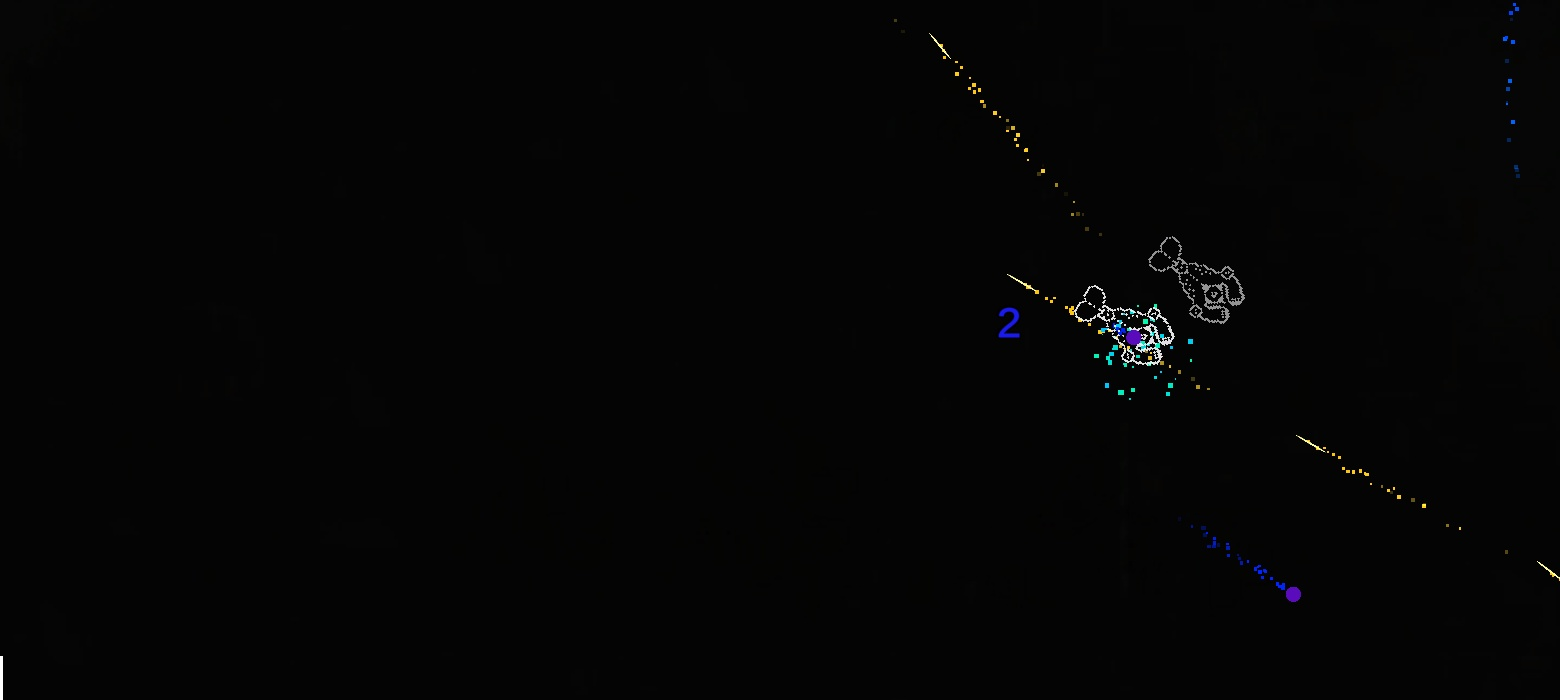enemy: (1147, 235, 1246, 325), (1074, 284, 1175, 366)
